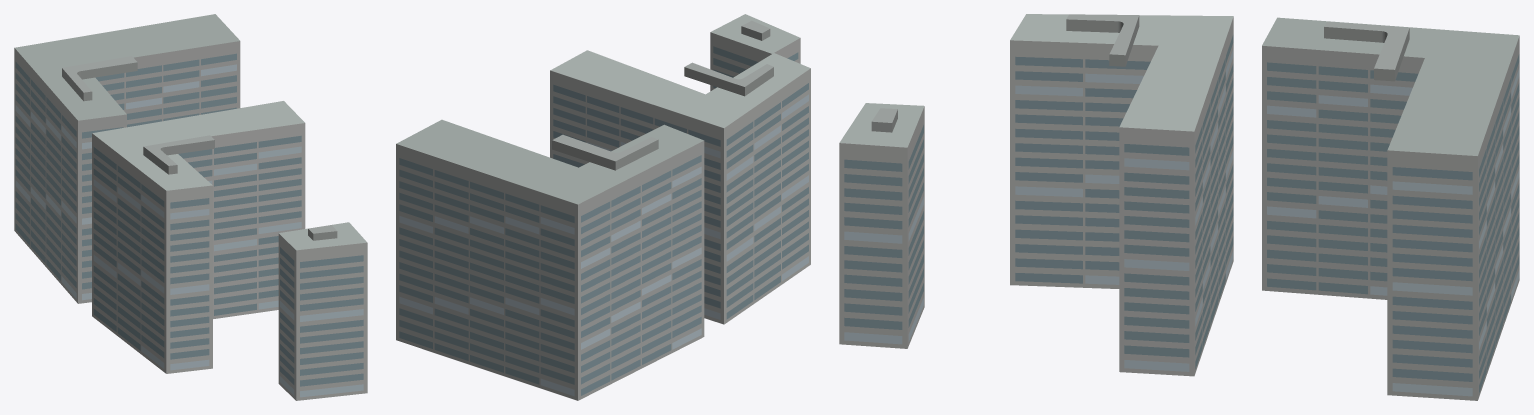
The model's file is apt-a12204002.glb.
The picture shows the model from 3 angles, left to right: view 1: azimuth 30°, elevation 25°; view 2: azimuth 150°, elevation 25°; view 3: azimuth 270°, elevation 25°; orthographic projection. The views are drawn at different scales.
Visible parts, largest first — view 1: apt-a12204002; view 2: apt-a12204002; view 3: apt-a12204002.
Part boxes in pixels (x1,y1,x2,y2): apt-a12204002: (14, 14, 367, 400); apt-a12204002: (396, 14, 810, 400); apt-a12204002: (839, 14, 1519, 400).
Size of the model in its own units: 53.54 by 45 by 108.
